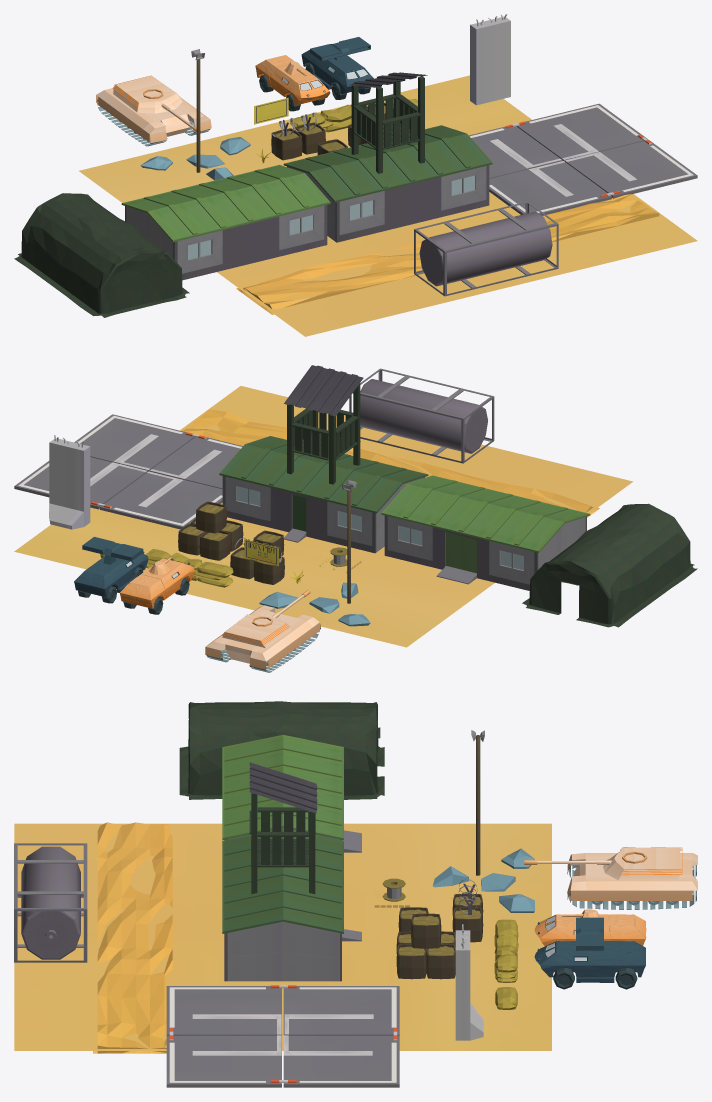
Rendered from BaseCampProps.fbx.
3 views of the same model, one above another, from view 1: azimuth 30°, elevation 25°; view 2: azimuth 150°, elevation 25°; view 3: azimuth 270°, elevation 25° (orthographic). The views are drawn at different scales.
Visible parts, largest first — view 1: BaseGround, House2, Heliport, House1, Tent, FuelTank, GroundRoad, Tank, Guardpost, Base.017, Apc2, Apc1 (+4 smaller); view 2: BaseGround, House2, House1, Heliport, Tent, FuelTank, Guardpost, Tank, GroundRoad, Base.017, Apc2, Sandboxes2 (+5 smaller); view 3: BaseGround, Heliport, House1, GroundRoad, Tent, House2, FuelTank, Tank, Guardpost, Apc2, Sandboxes2, Apc1 (+4 smaller).
Boxes of the visible parts, <box> form: BaseGround: <box>79,75,697,336</box>; House2: <box>121,164,330,280</box>; Heliport: <box>469,103,697,215</box>; House1: <box>283,125,492,242</box>; Tent: <box>14,193,189,317</box>; FuelTank: <box>414,201,558,296</box>; GroundRoad: <box>236,194,659,314</box>; Tank: <box>96,75,211,146</box>; Guardpost: <box>348,72,427,173</box>; Base.017: <box>470,14,510,105</box>; Apc2: <box>301,37,373,99</box>; Apc1: <box>255,55,330,111</box>; BaseGround: <box>14,386,633,647</box>; House2: <box>381,475,590,590</box>; House1: <box>219,436,428,553</box>; Heliport: <box>14,414,242,529</box>; Tent: <box>522,503,697,627</box>; FuelTank: <box>349,368,494,463</box>; Guardpost: <box>284,365,363,484</box>; Tank: <box>205,590,320,672</box>; GroundRoad: <box>182,409,599,517</box>; Base.017: <box>49,435,90,529</box>; Apc2: <box>74,536,148,603</box>; Sandboxes2: <box>178,501,243,560</box>; BaseGround: <box>14,823,551,1050</box>; Heliport: <box>166,985,399,1087</box>; House1: <box>222,828,361,981</box>; GroundRoad: <box>93,822,172,1053</box>; Tent: <box>179,701,384,799</box>; House2: <box>222,734,361,852</box>; FuelTank: <box>14,843,87,962</box>; Tank: <box>524,847,697,909</box>; Guardpost: <box>249,762,317,893</box>; Apc2: <box>534,917,645,989</box>; Sandboxes2: <box>396,913,455,979</box>; Apc1: <box>534,909,646,945</box>.
Size of the model in its own units: 25.33 by 5.74 by 21.27.
